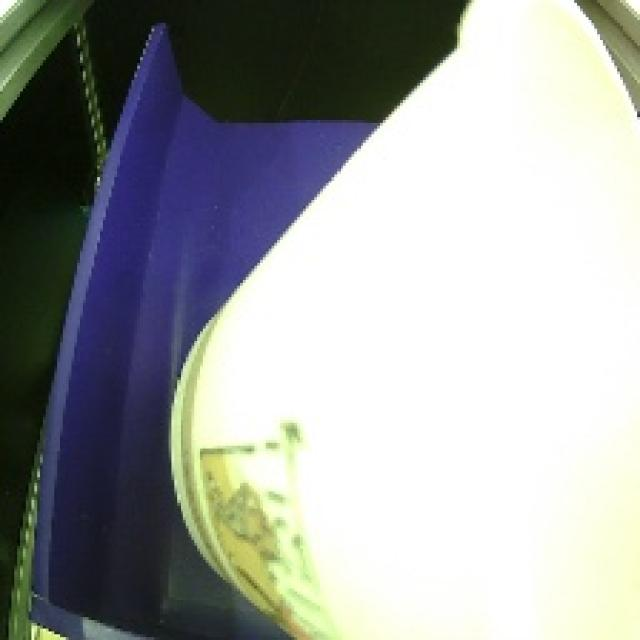cups: (140, 0, 640, 640)
